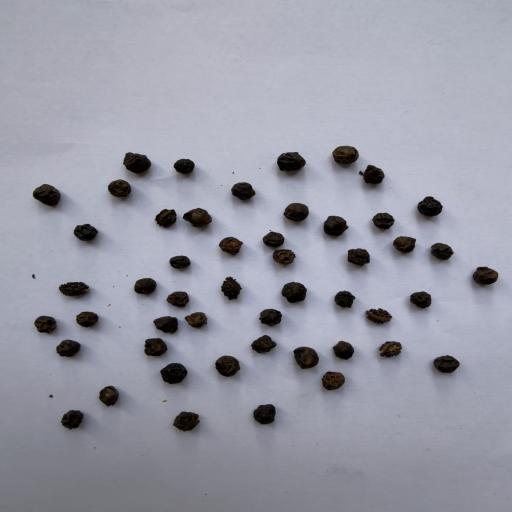Black_pepper: (6, 176, 70, 206), (238, 394, 280, 431), (401, 194, 456, 222), (181, 200, 226, 228), (468, 254, 500, 293), (64, 213, 104, 243), (425, 234, 462, 266), (270, 266, 307, 298), (421, 347, 460, 377), (166, 402, 203, 432), (158, 146, 194, 176), (333, 238, 369, 268), (282, 341, 320, 369), (271, 145, 306, 175), (351, 164, 391, 190), (95, 382, 135, 408), (96, 175, 130, 204), (112, 146, 149, 172), (403, 286, 440, 311), (266, 194, 304, 218), (54, 338, 95, 360), (329, 338, 361, 366), (157, 360, 191, 386), (209, 350, 243, 376), (54, 410, 90, 434), (205, 232, 244, 254), (315, 282, 354, 304), (214, 175, 254, 196), (259, 245, 303, 264), (165, 286, 201, 309), (22, 308, 56, 332), (329, 140, 365, 162), (256, 224, 290, 246), (314, 209, 346, 232), (319, 369, 349, 393), (144, 306, 175, 329), (256, 305, 286, 328), (367, 203, 393, 229), (140, 336, 168, 360), (71, 302, 99, 324), (392, 236, 422, 256), (250, 334, 278, 354), (183, 310, 212, 328), (136, 276, 162, 294), (172, 254, 196, 270)
papaya_seed: (42, 270, 95, 298), (208, 263, 248, 300), (373, 342, 413, 364), (358, 304, 397, 325), (150, 199, 178, 228)
